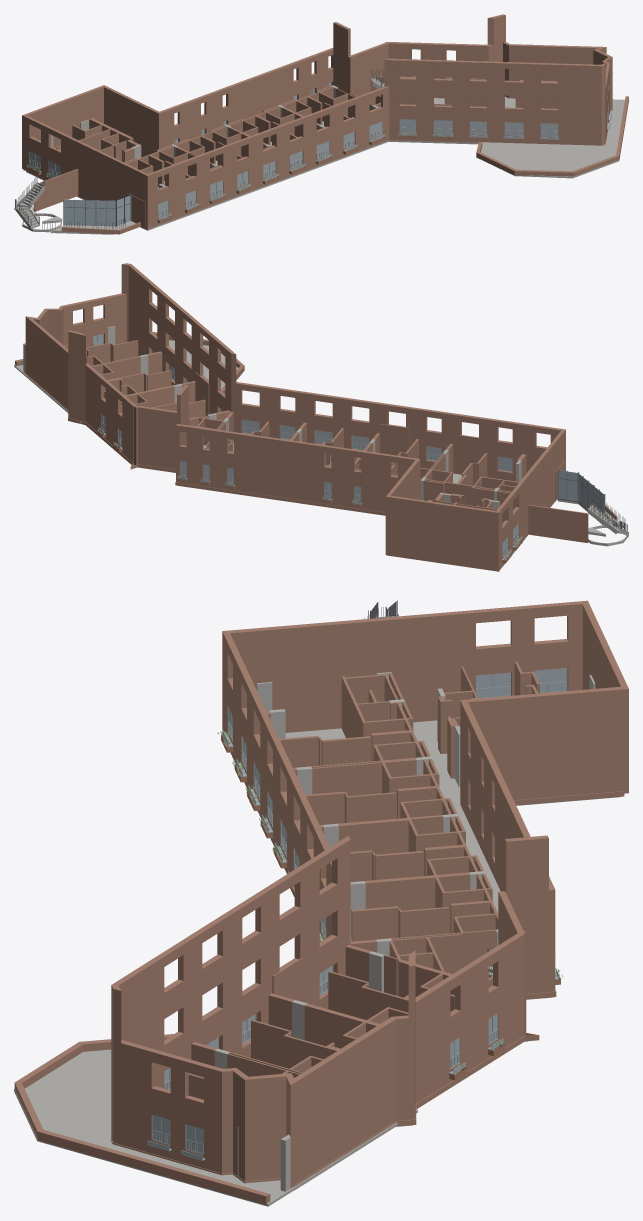
Rendered from revit_nivel_2.glb.
The picture shows the model from 3 angles, top to bottom: view 1: azimuth 30°, elevation 25°; view 2: azimuth 150°, elevation 25°; view 3: azimuth 270°, elevation 25°; orthographic projection. The views are drawn at different scales.
Parts seen in each view (by area): view 1: Revit_PISO 3; view 2: Revit_PISO 3; view 3: Revit_PISO 3.
Part boxes in pixels (box(x1,y1,x2,y2)): Revit_PISO 3: box(14, 14, 628, 234); Revit_PISO 3: box(14, 263, 628, 571); Revit_PISO 3: box(14, 600, 628, 1206).
Bounding box in the file's own units: 68.72 × 9.25 × 32.06.
